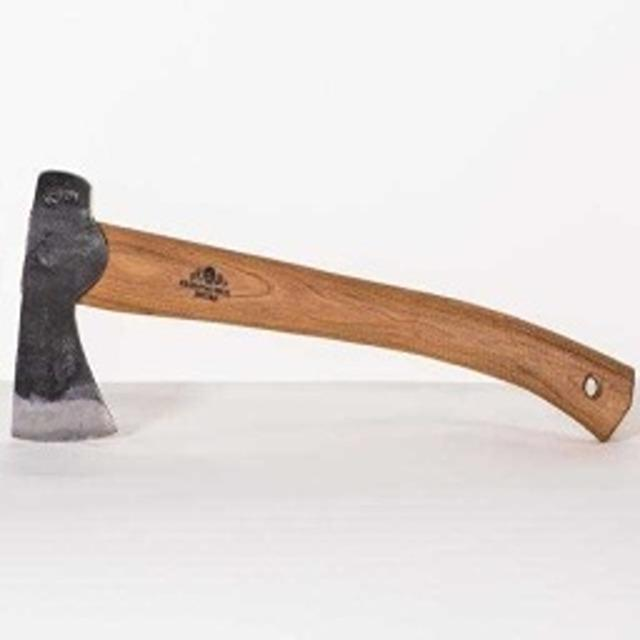ax: (3, 154, 640, 461)
